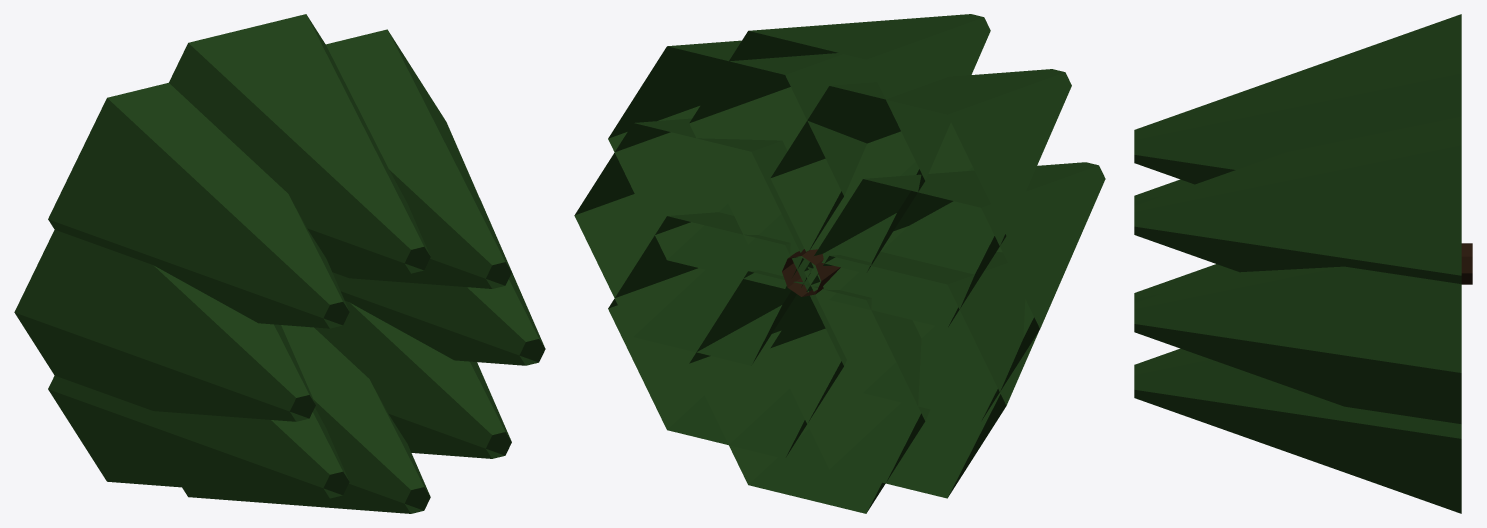
The model's file is SM_CommonFernClump.obj.
The picture shows the model from 3 angles, left to right: view 1: azimuth 30°, elevation 25°; view 2: azimuth 150°, elevation 25°; view 3: azimuth 270°, elevation 25°; orthographic projection. The views are drawn at different scales.
Visible parts, largest first — view 1: SM_CommonFernClump; view 2: SM_CommonFernClump; view 3: SM_CommonFernClump.
Part boxes in pixels (x1,y1,x2,y2): SM_CommonFernClump: (14,14,545,513); SM_CommonFernClump: (574,14,1105,513); SM_CommonFernClump: (1134,14,1472,513).
Bounding box in the file's own units: 142 × 132 × 93.
